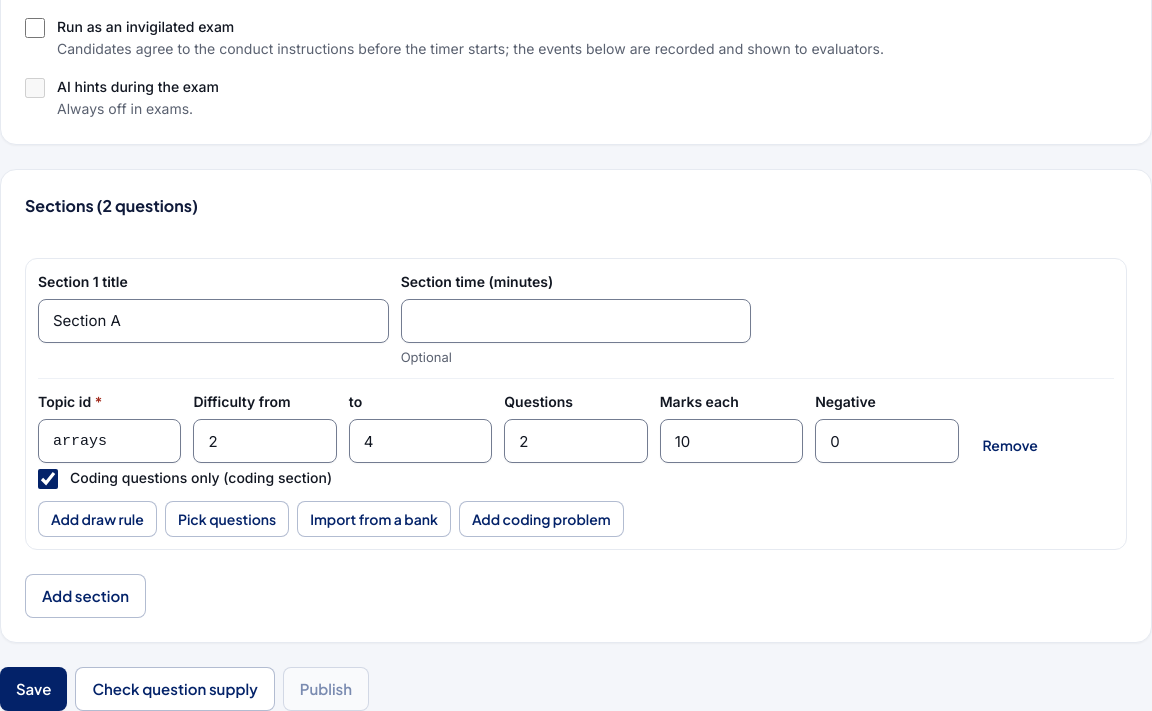
test builder coding section (w2a webstaff R10, ADM-49) › adds a coding problem from the picker, shows Batch-owned, and saves it; a 422 lands on the rule
The image size is (1152, 711).
(page scrolled)
Check: the checkbox labelled "Coding questions only (coding section)" is checked, box [38, 469, 58, 489]
Click the button "Add coding problem" at (541, 519), box [459, 501, 624, 537]
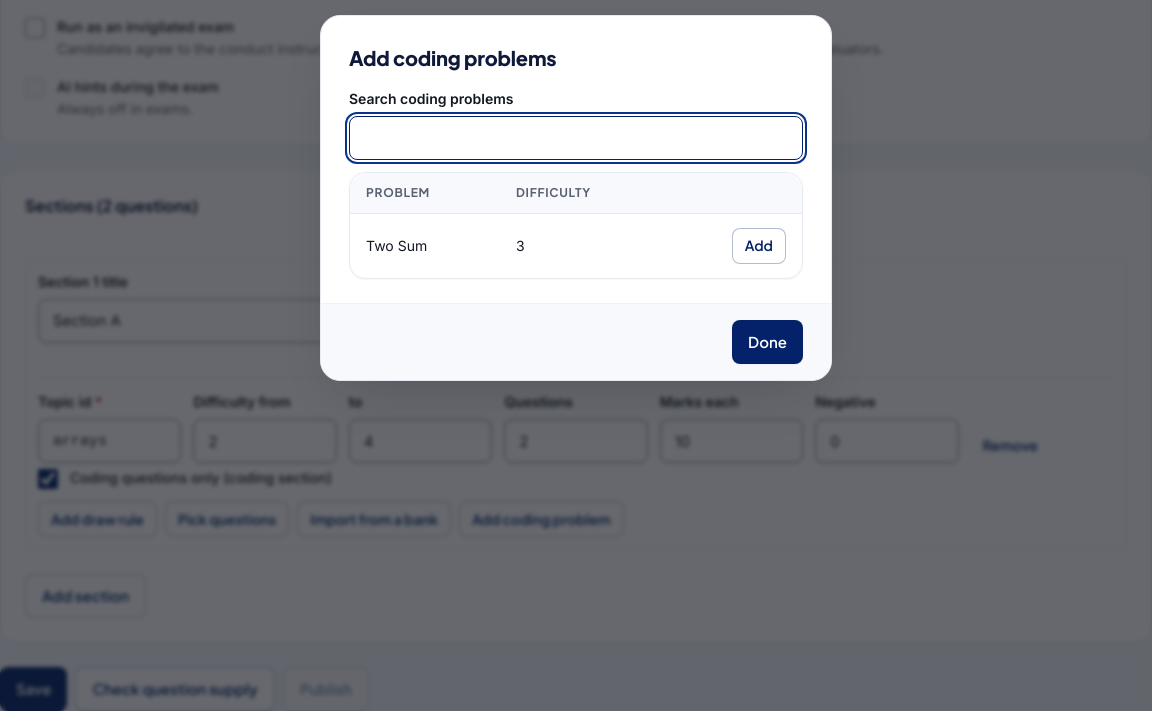
Click the button with aria-label "Add Two Sum" at (759, 246), box [732, 228, 786, 264]
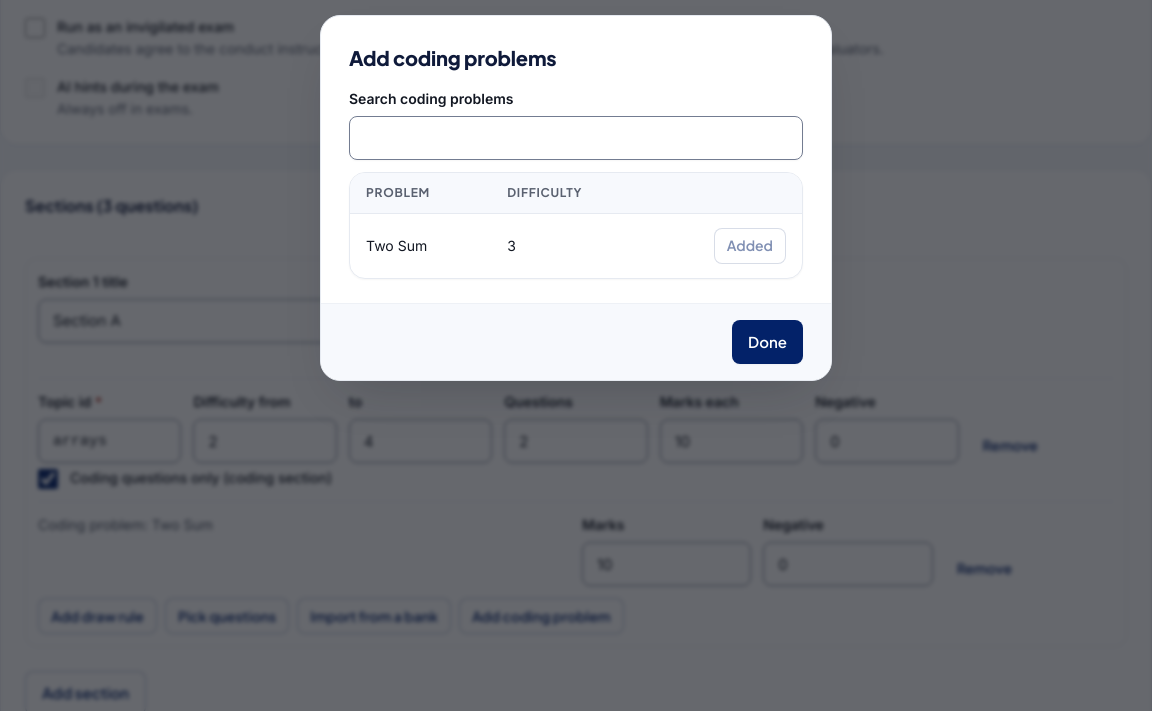
Click the button "Done" at (768, 342), box [732, 320, 803, 364]
(page scrolled)
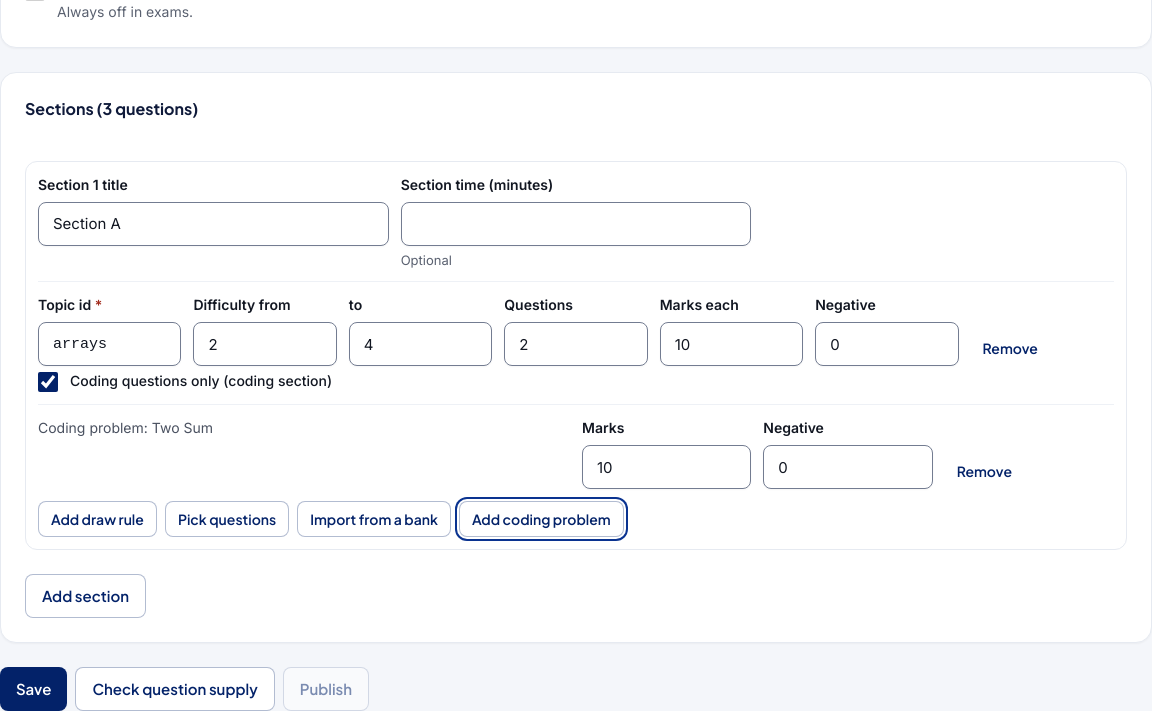
Check: the text "Coding problem: Two Sum" is shown, box [38, 419, 213, 436]
Click the button "Save" at (34, 689), box [0, 667, 67, 710]
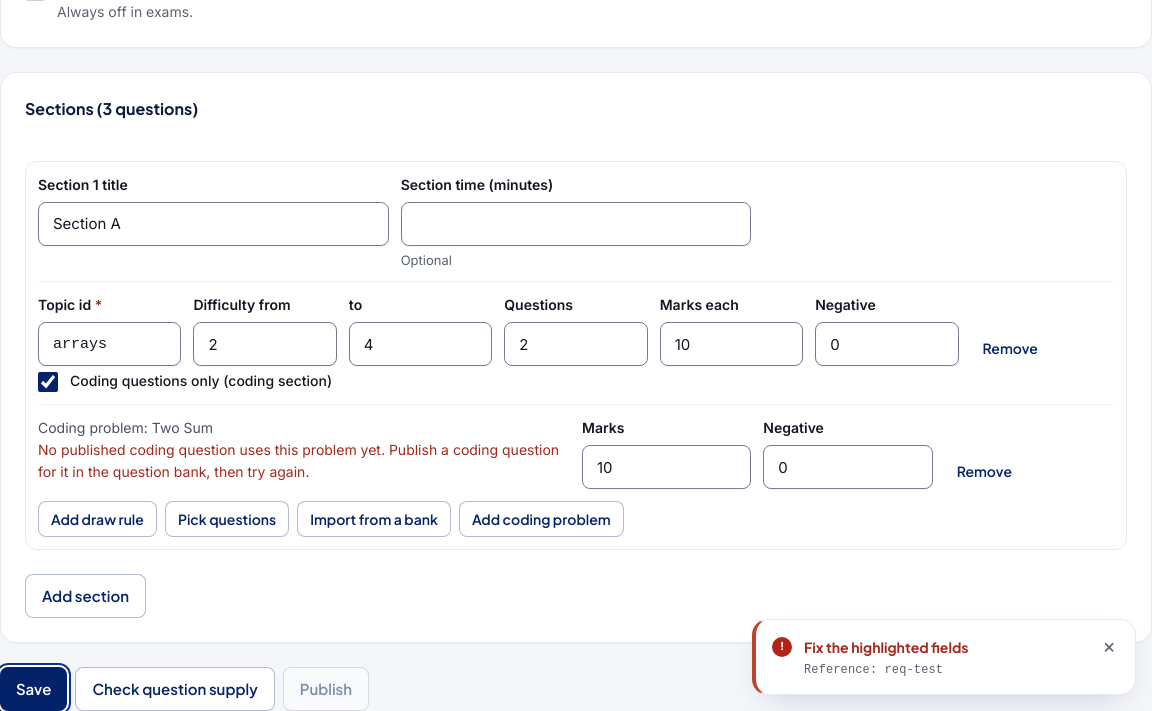
Check: the text "No published coding question uses this problem yet" is shown, box [38, 441, 559, 480]
